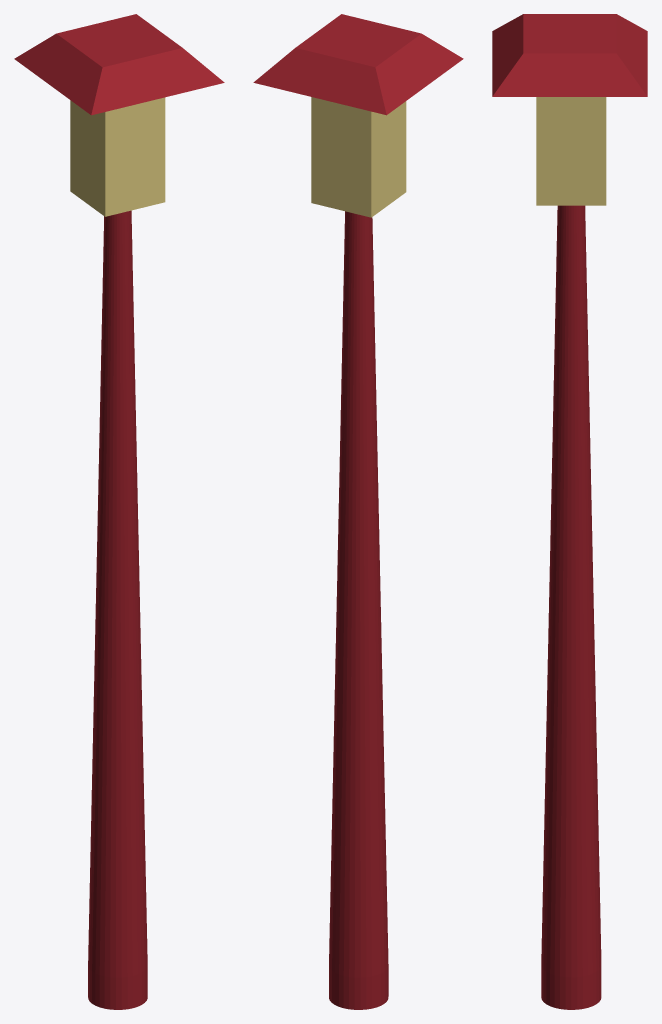
Rendered from lantaarn.fbx.
3 renders of one model, left to right at view 1: azimuth 30°, elevation 25°; view 2: azimuth 150°, elevation 25°; view 3: azimuth 270°, elevation 25°, orthographic.
Visible parts, largest first — view 1: Cylinder, Cube.001, Cube; view 2: Cylinder, Cube.001, Cube; view 3: Cylinder, Cube.001, Cube.
Part boxes in pixels (x1,y1,x2,y2): Cylinder: (88,210,147,1009); Cube.001: (14,14,224,115); Cube: (70,97,165,216); Cylinder: (329,211,388,1009); Cube.001: (253,14,463,115); Cube: (311,97,406,217); Cylinder: (541,205,601,1009); Cube.001: (492,14,647,96); Cube: (536,97,606,205).
Size of the model in its own units: 104 by 713 by 104.
